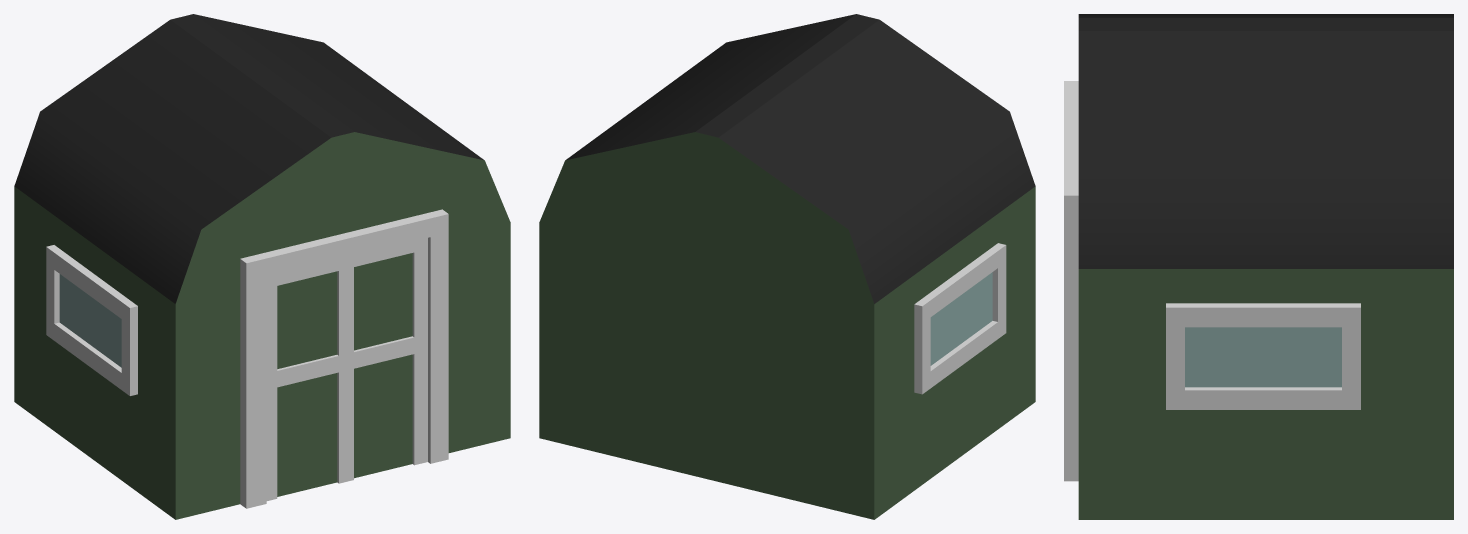
Rendered from Shed_02.fbx.
3 renders of one model, left to right at view 1: azimuth 30°, elevation 25°; view 2: azimuth 150°, elevation 25°; view 3: azimuth 270°, elevation 25°, orthographic. The views are drawn at different scales.
Parts seen in each view (by area): view 1: Shed1_polySurface2; view 2: Shed1_polySurface2; view 3: Shed1_polySurface2.
Boxes of the visible parts, box(x1,y1,x2,y2) form: Shed1_polySurface2: box(14, 14, 510, 519); Shed1_polySurface2: box(539, 14, 1035, 519); Shed1_polySurface2: box(1064, 14, 1453, 519).
Bounding box in the file's own units: 314 × 295 × 260.
